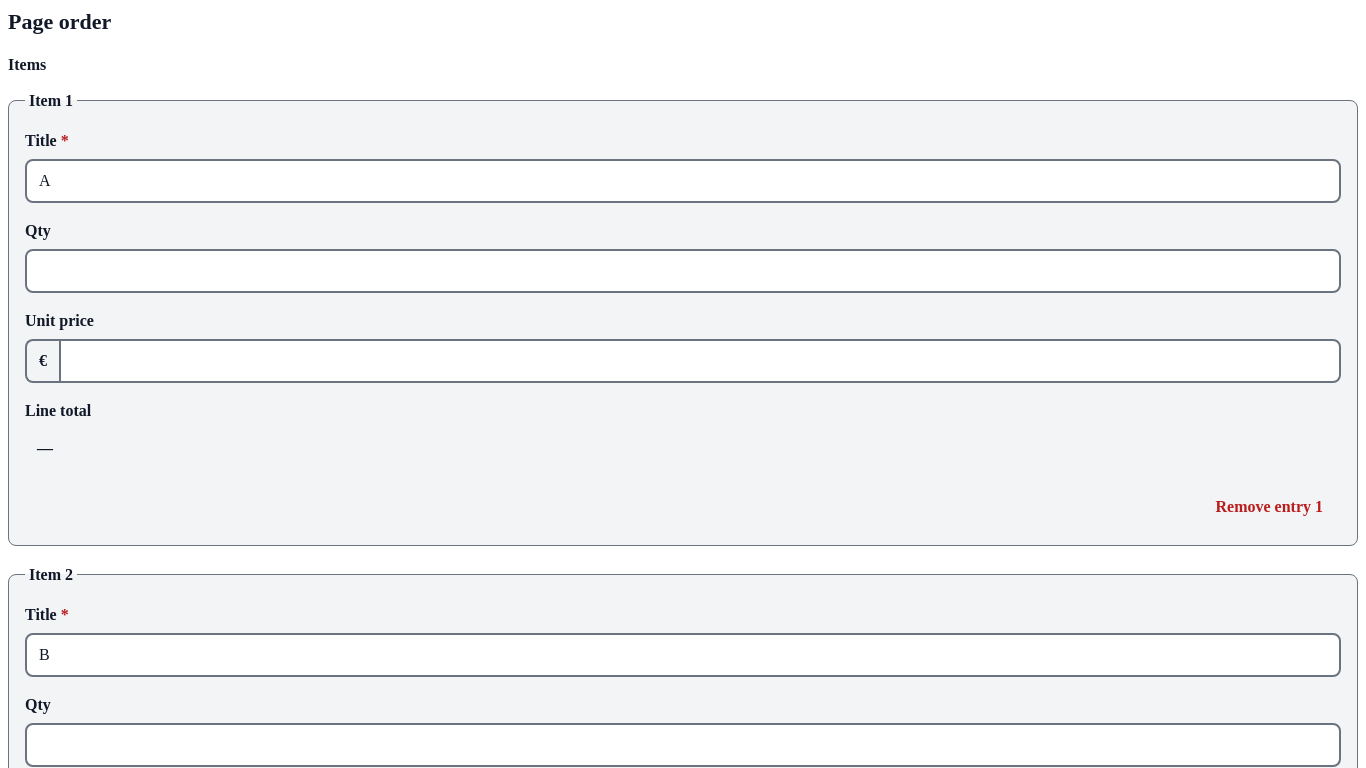
repeater cards › removes rows but never below minItems
Click the button "Remove entry 1".
click(1269, 507)  # box [1198,485,1341,529]
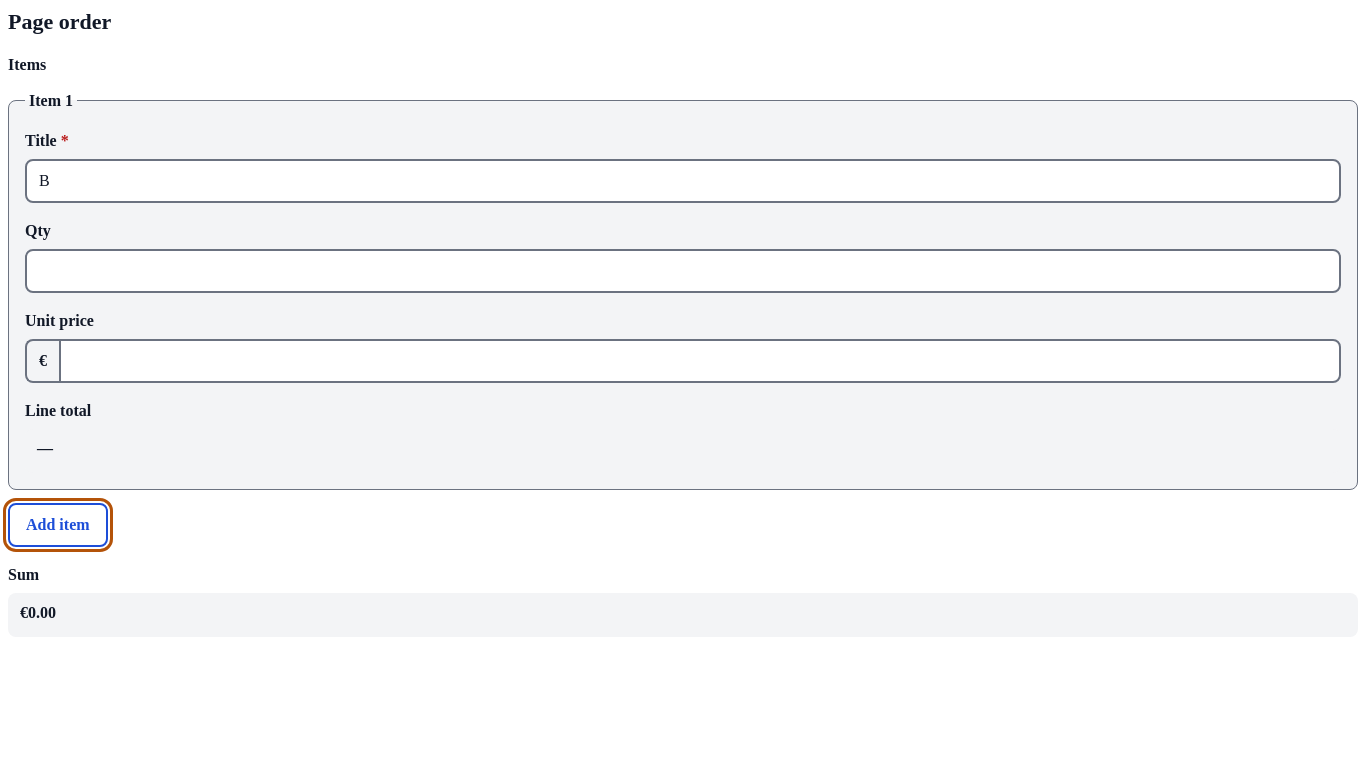
Now the button "Remove entry" is gone
